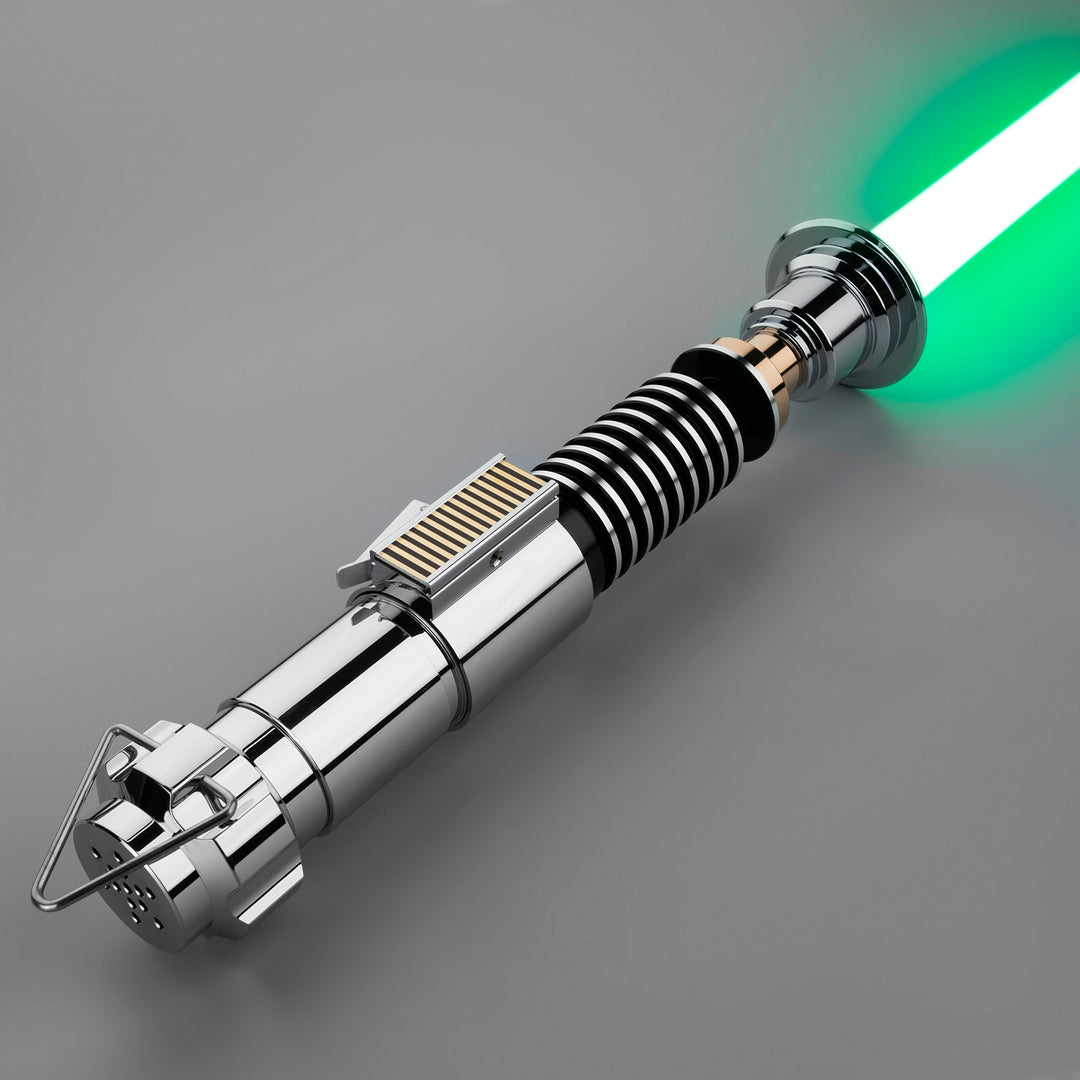lightsaber: (79, 12, 1080, 986)
